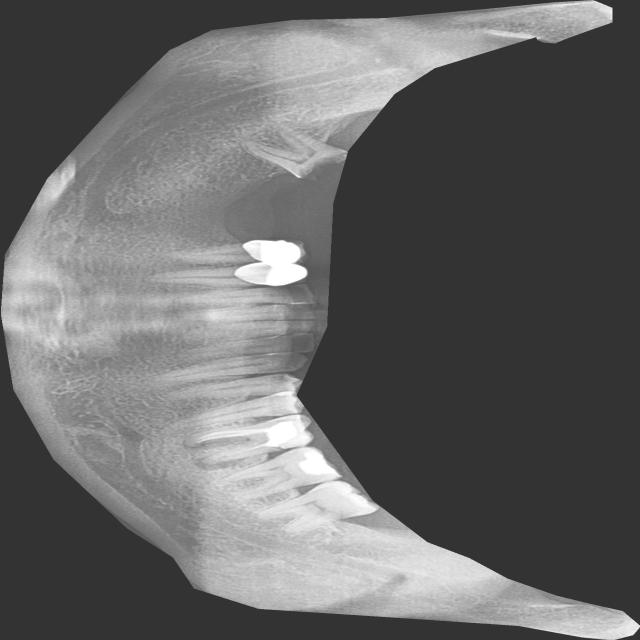mandibula: (0, 0, 640, 640)
